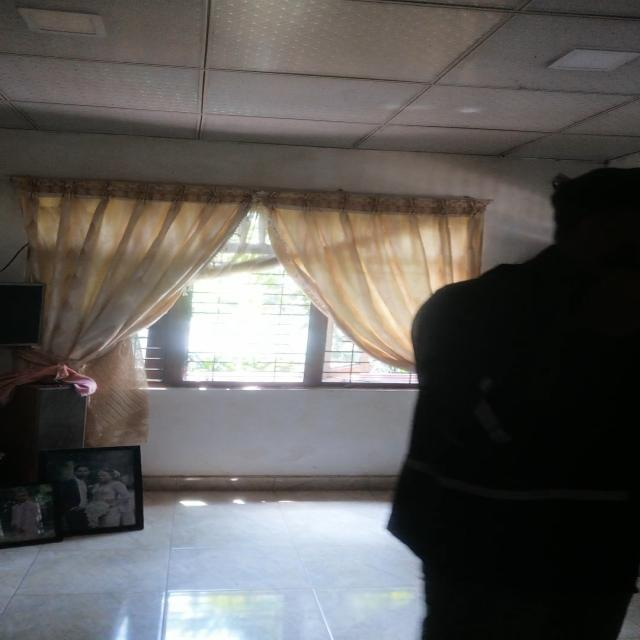Jacket_Wearer: (366, 260, 640, 571)
Person: (372, 156, 640, 640)
